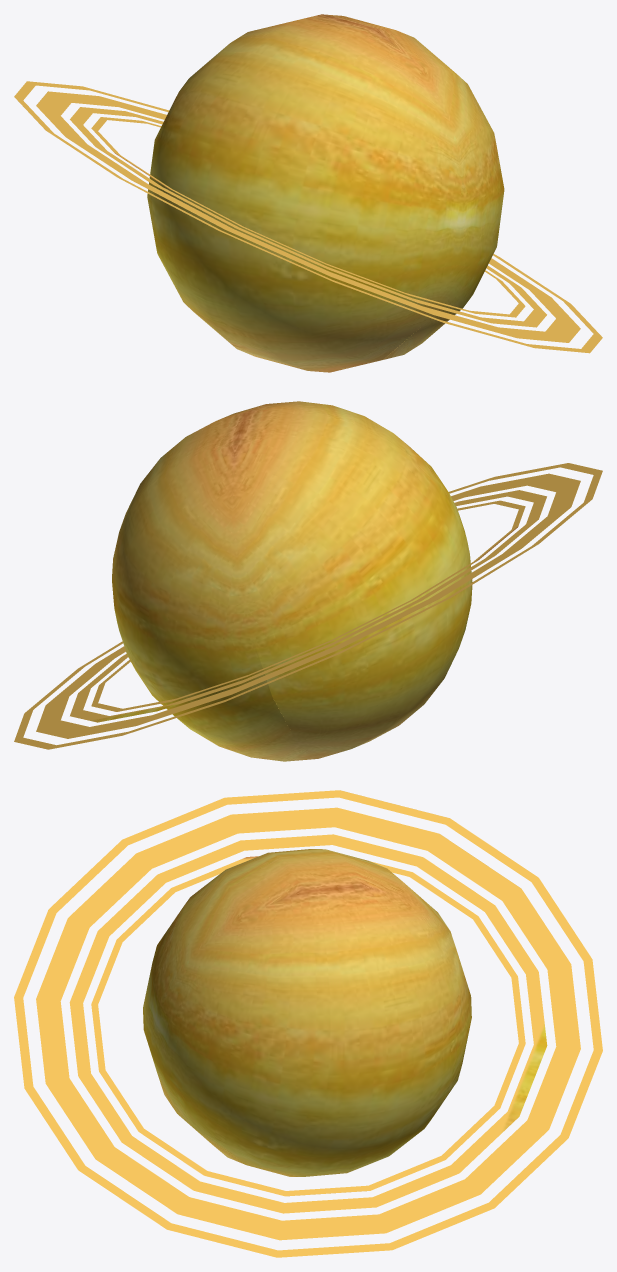
File: Saturn.fbx
3 views of the same model, one above another, from view 1: azimuth 30°, elevation 25°; view 2: azimuth 150°, elevation 25°; view 3: azimuth 270°, elevation 25° (orthographic). The views are drawn at different scales.
Visible parts, largest first — view 1: Saturn; view 2: Saturn; view 3: Saturn.
Part boxes in pixels (x1,y1,x2,y2): Saturn: [14, 14, 602, 372]; Saturn: [14, 401, 602, 761]; Saturn: [14, 790, 602, 1257].
Size of the model in its own units: 5814 by 3636 by 6557.
Materials: 1 (1 with a texture image).
